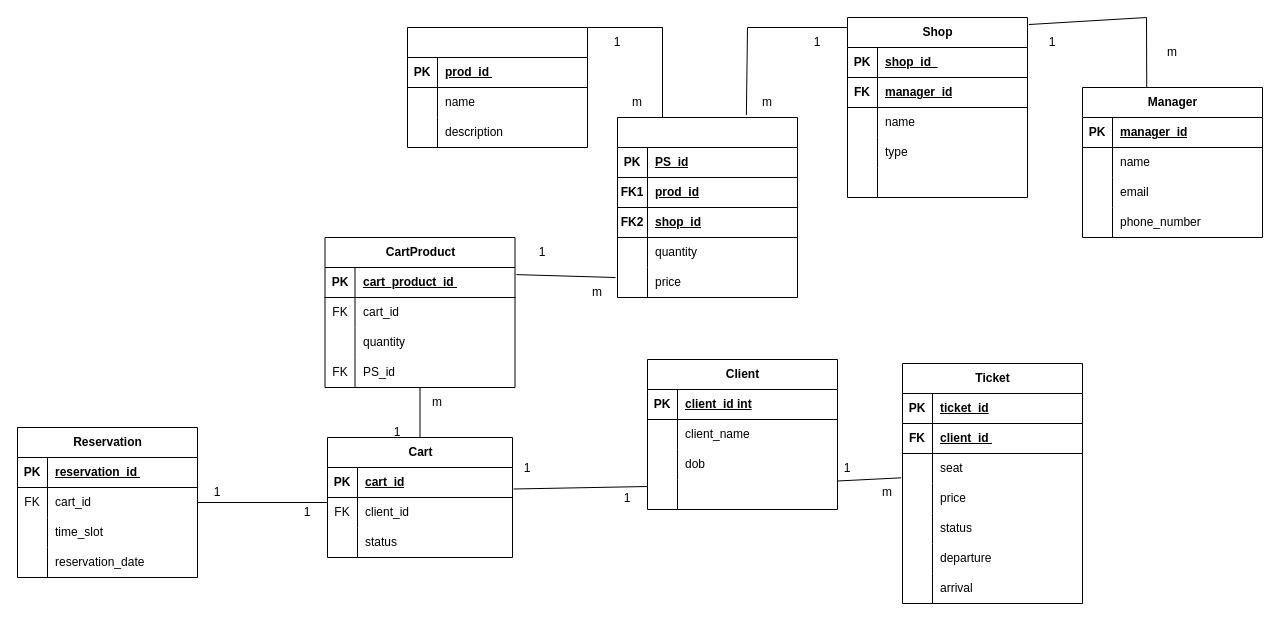
Some shapes in this 1280 by 621 pixel diagram are drawn without their labels. The box of each missing label's shape, as (x1, y1, x2, y2) in pixels:
Product: (406, 26, 588, 148)
ProductShop: (616, 116, 798, 298)
